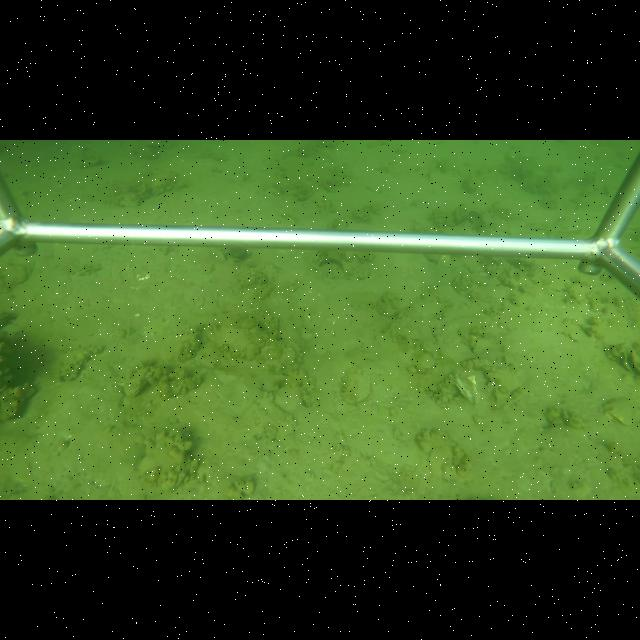Oyster-Closed: (137, 445, 194, 491), (448, 372, 480, 406), (121, 371, 153, 399)
Oyster-Open: (619, 349, 639, 379)
